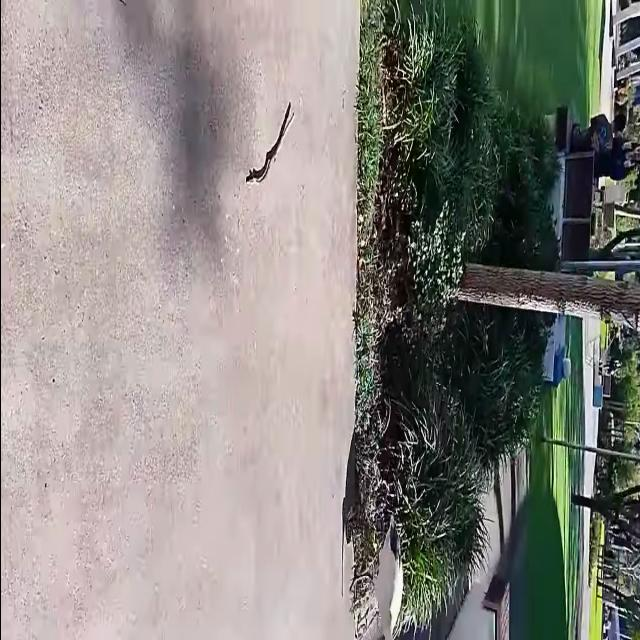Birds-Ibis: (344, 508, 412, 640)
